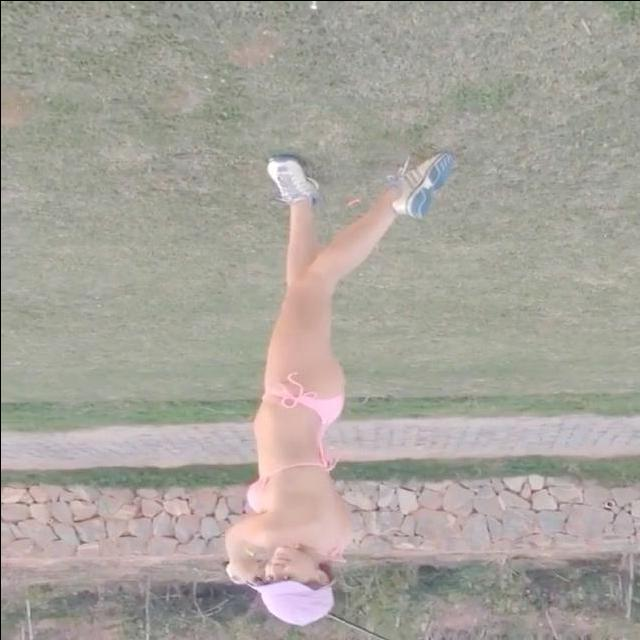golf club-handle: (220, 559, 388, 640)
